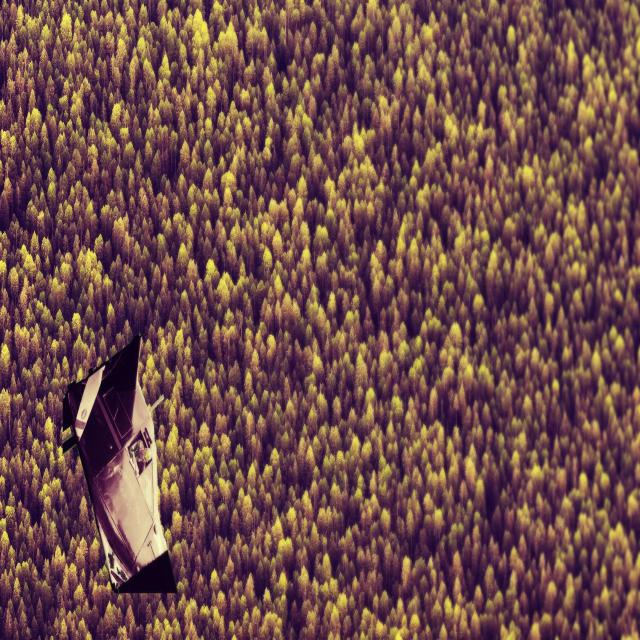airplane: (61, 332, 178, 594)
